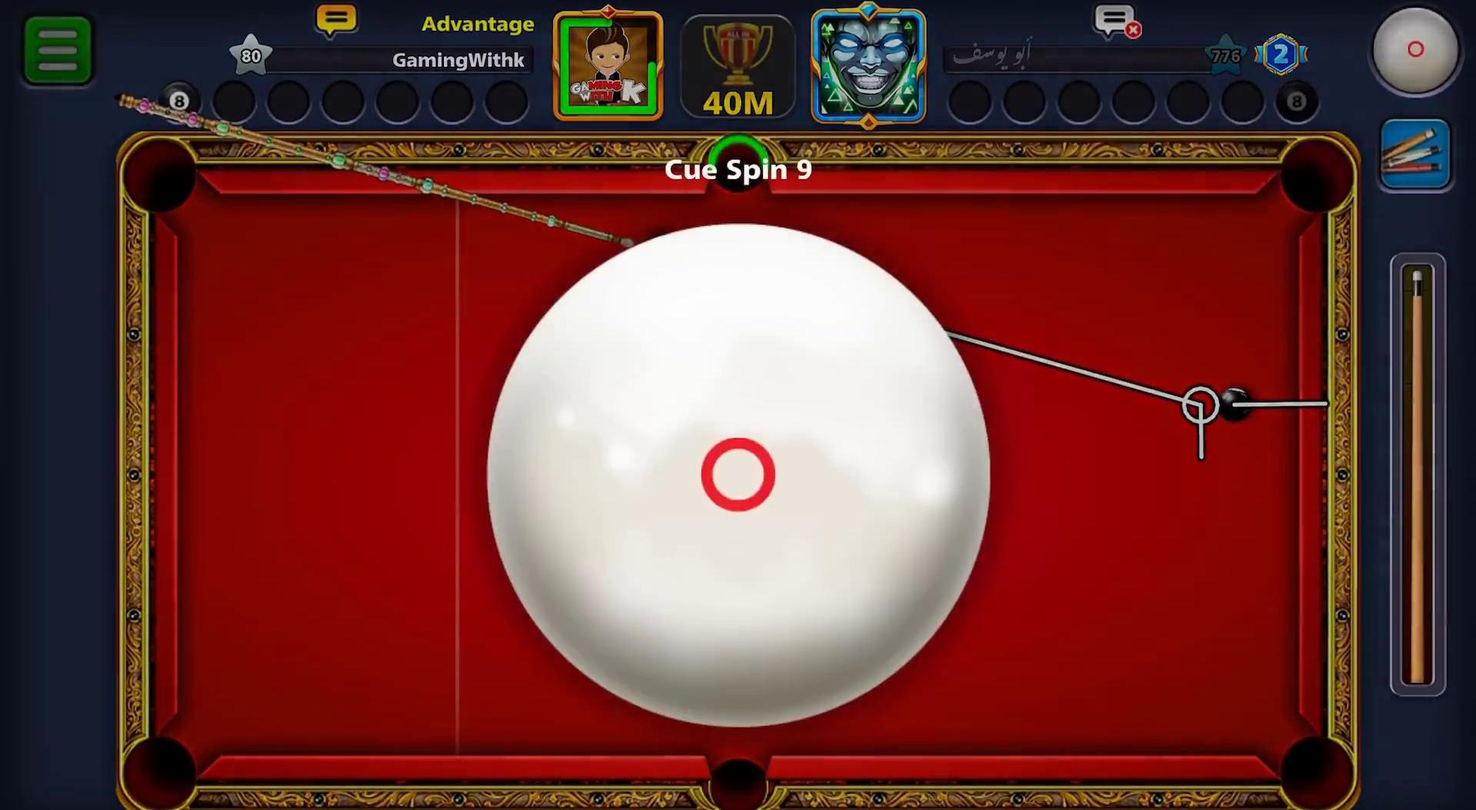Ball: (1215, 385, 1250, 422)
Force: (1391, 253, 1448, 709)
Guideline: (941, 322, 1331, 474)
Hole: (1266, 118, 1365, 227), (1257, 715, 1371, 809), (115, 128, 215, 232), (699, 120, 777, 210), (696, 738, 779, 809), (122, 734, 198, 809)
Play_Area: (186, 198, 1305, 754)
Spin: (480, 216, 995, 736), (1361, 2, 1473, 106)
